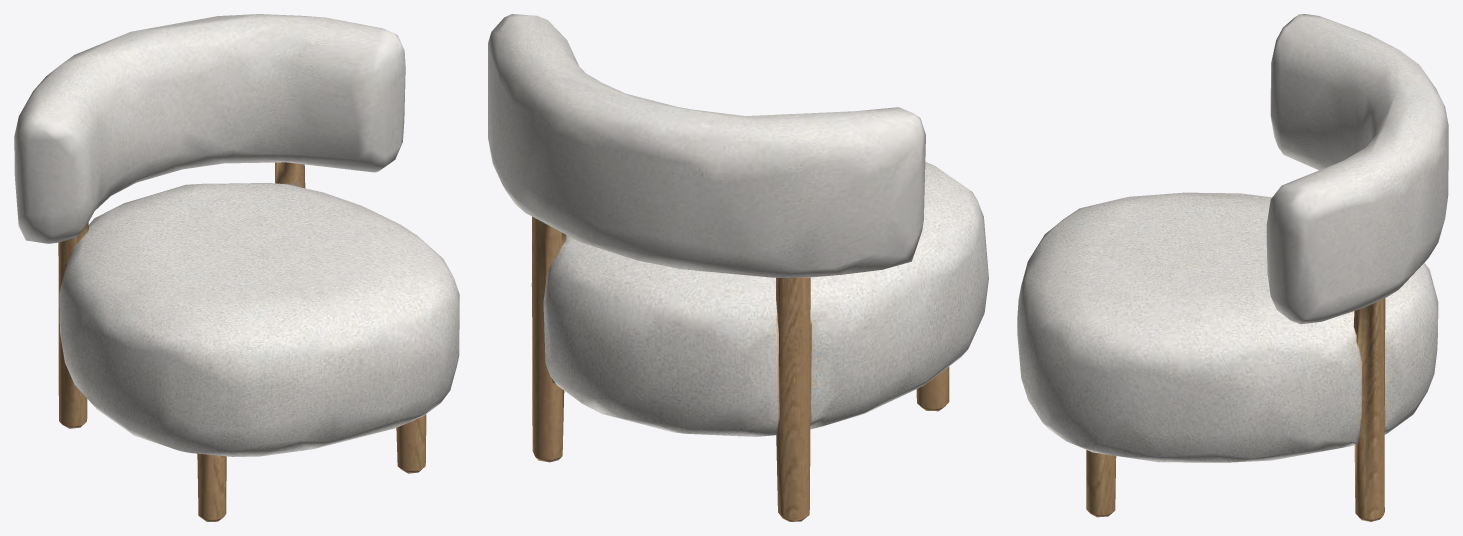
The model's file is 09 - STOCKHOLM 2025 - 扶手椅，Djurmo 灰色白色 IKEA 線上購物.glb.
The picture shows the model from 3 angles, left to right: view 1: azimuth 30°, elevation 25°; view 2: azimuth 150°, elevation 25°; view 3: azimuth 270°, elevation 25°; orthographic projection. The views are drawn at different scales.
Parts seen in each view (by area): view 1: ASY_ART_20594750_S01_NV01; view 2: ASY_ART_20594750_S01_NV01; view 3: ASY_ART_20594750_S01_NV01.
Part boxes in pixels (x1=…): ASY_ART_20594750_S01_NV01: x1=14, y1=14, x2=459, y2=521; ASY_ART_20594750_S01_NV01: x1=488, y1=14, x2=988, y2=521; ASY_ART_20594750_S01_NV01: x1=1017, y1=14, x2=1448, y2=521.
Bounding box in the file's own units: 0.7759 × 0.6865 × 0.7378.
1 material, 1 textured.
